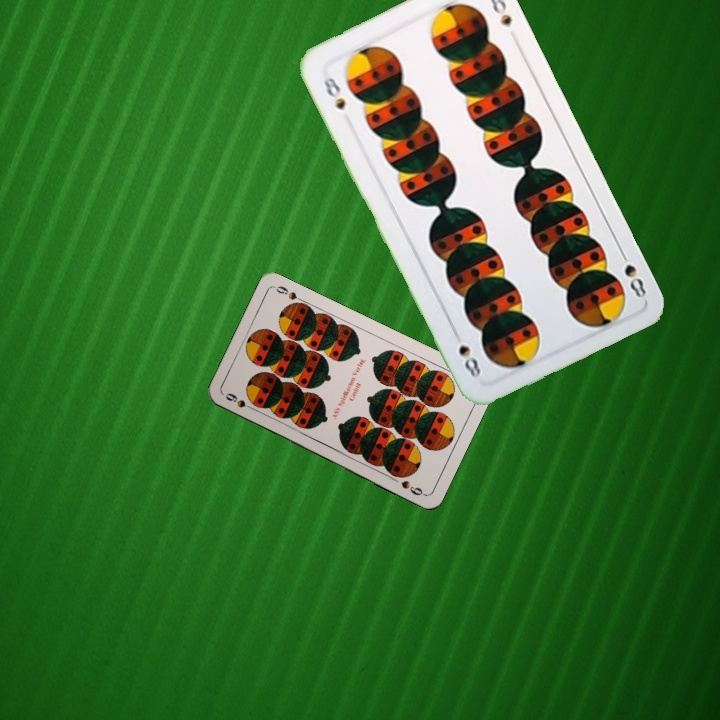S8: (615, 245, 649, 301), (317, 69, 348, 112)
S9: (221, 389, 259, 414)
